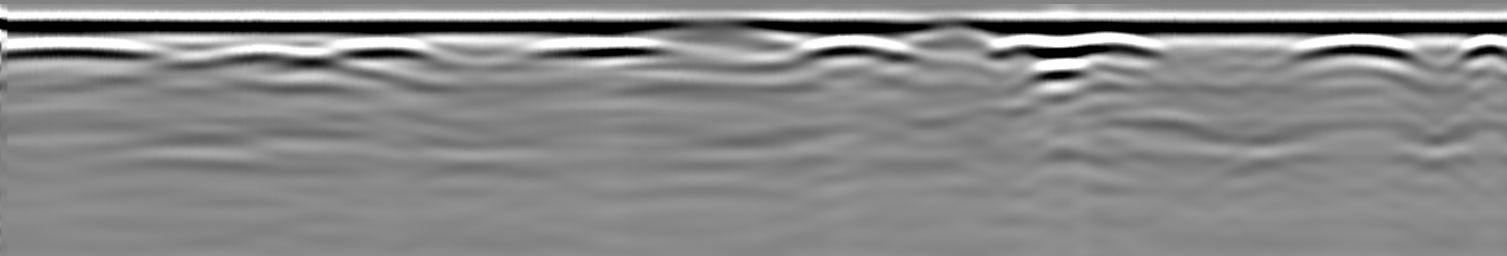pipe: (609, 19, 823, 58), (875, 21, 1019, 50)
steel: (989, 33, 1168, 65), (507, 32, 655, 69), (4, 35, 177, 65), (1276, 33, 1434, 65), (304, 33, 453, 66), (782, 34, 919, 65)
